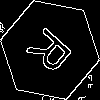R: (25, 25, 81, 82)
